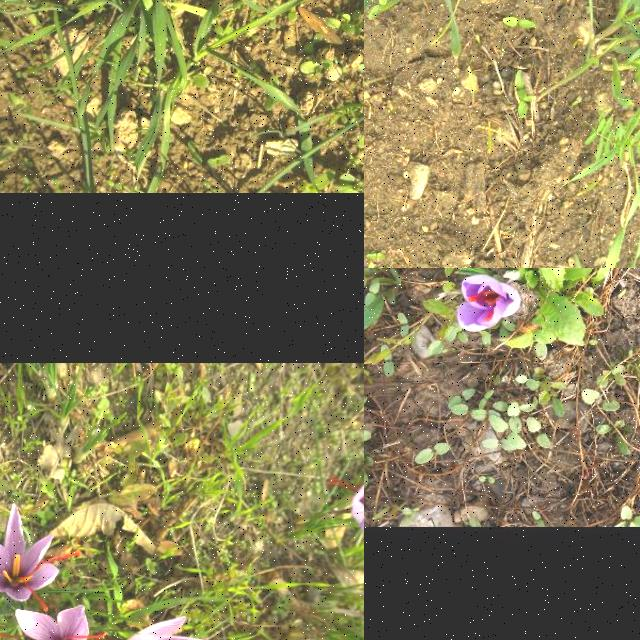flower: (0, 503, 82, 612), (0, 605, 105, 640), (456, 276, 520, 332), (119, 616, 214, 640), (327, 477, 364, 533)
